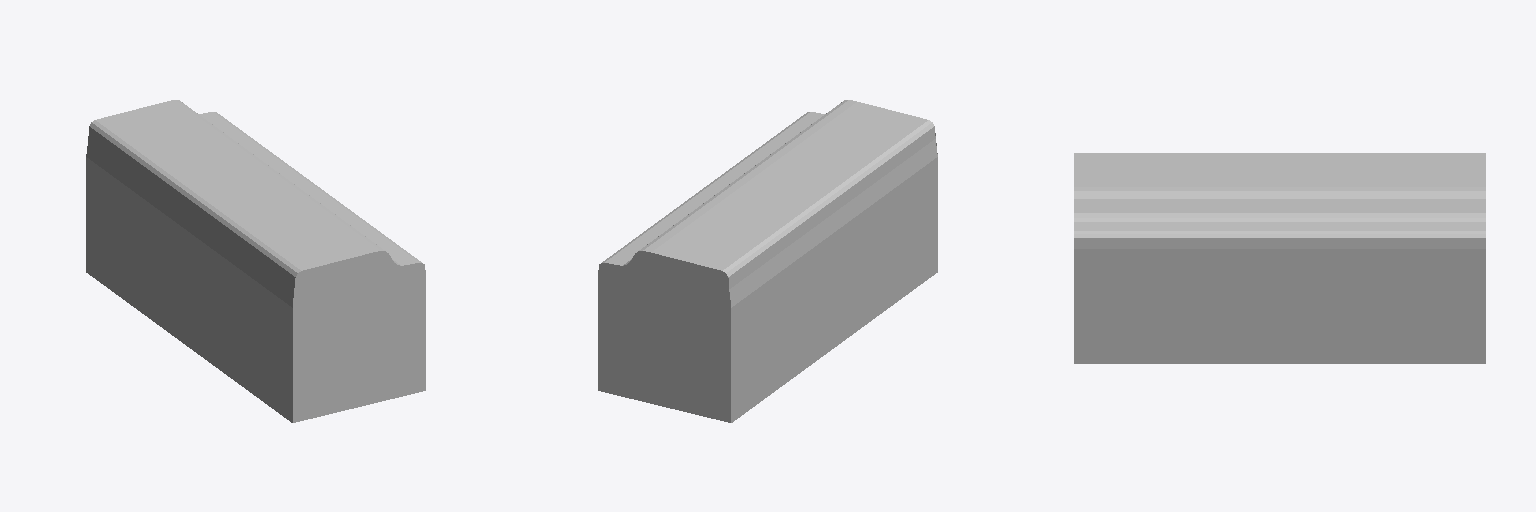
File: Curb.obj
The picture shows the model from 3 angles: view 1: azimuth 30°, elevation 25°; view 2: azimuth 150°, elevation 25°; view 3: azimuth 270°, elevation 25°; orthographic projection.
Visible parts, largest first — view 1: concrete_barrier_simple; view 2: concrete_barrier_simple; view 3: concrete_barrier_simple.
Boxes of the visible parts, x1=… form: concrete_barrier_simple: x1=86, y1=100, x2=425, y2=422; concrete_barrier_simple: x1=598, y1=100, x2=937, y2=422; concrete_barrier_simple: x1=1074, y1=153, x2=1485, y2=363.
Bounding box in the file's own units: 32.08 × 34.78 × 86.04.